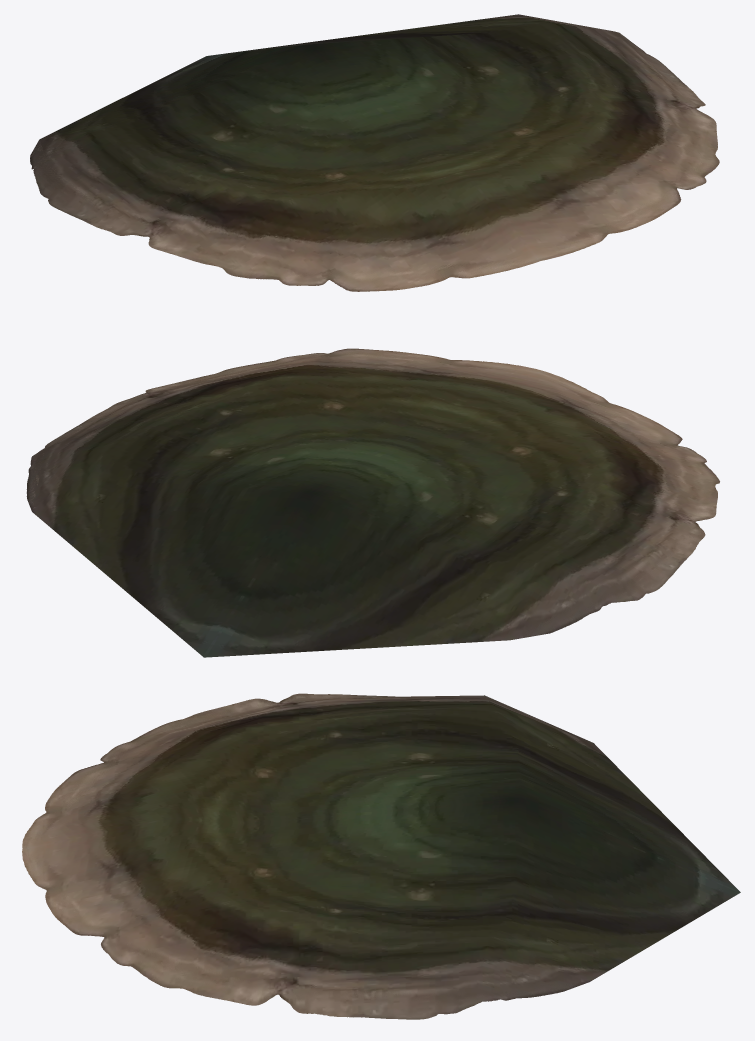
3 views of the same model, one above another, from view 1: azimuth 30°, elevation 25°; view 2: azimuth 150°, elevation 25°; view 3: azimuth 270°, elevation 25° (orthographic). The views are drawn at different scales.
Bounding box in the file's own units: 1.52 × 0.2645 × 1.47.
1 material, 1 textured.
